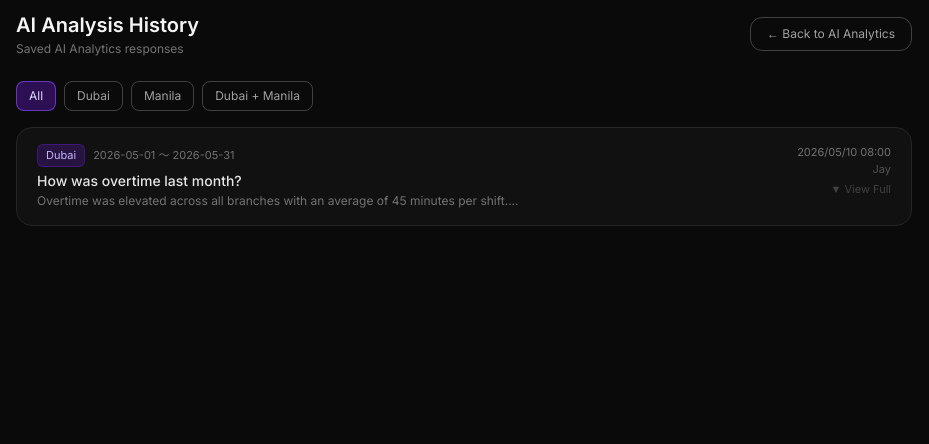
Test: AiHistoryPage › expands a snapshot card on click to show full answer
The image size is (929, 444).
Expected: the text "How was overtime last month?" is shown, [37,172,242,188]
// Click the card header button
Click the 5th button: point(61, 155) [17,128,911,224]
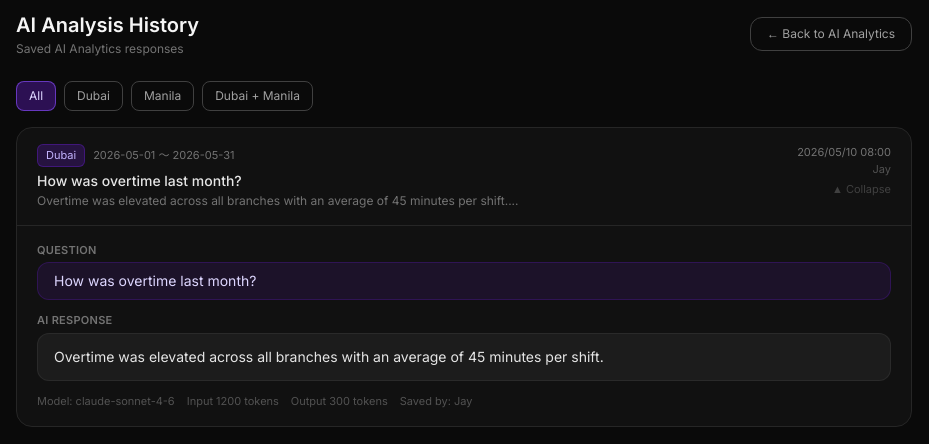
Now the text "Model: claude-sonnet-4-6" is shown, box [37,393,175,410]
